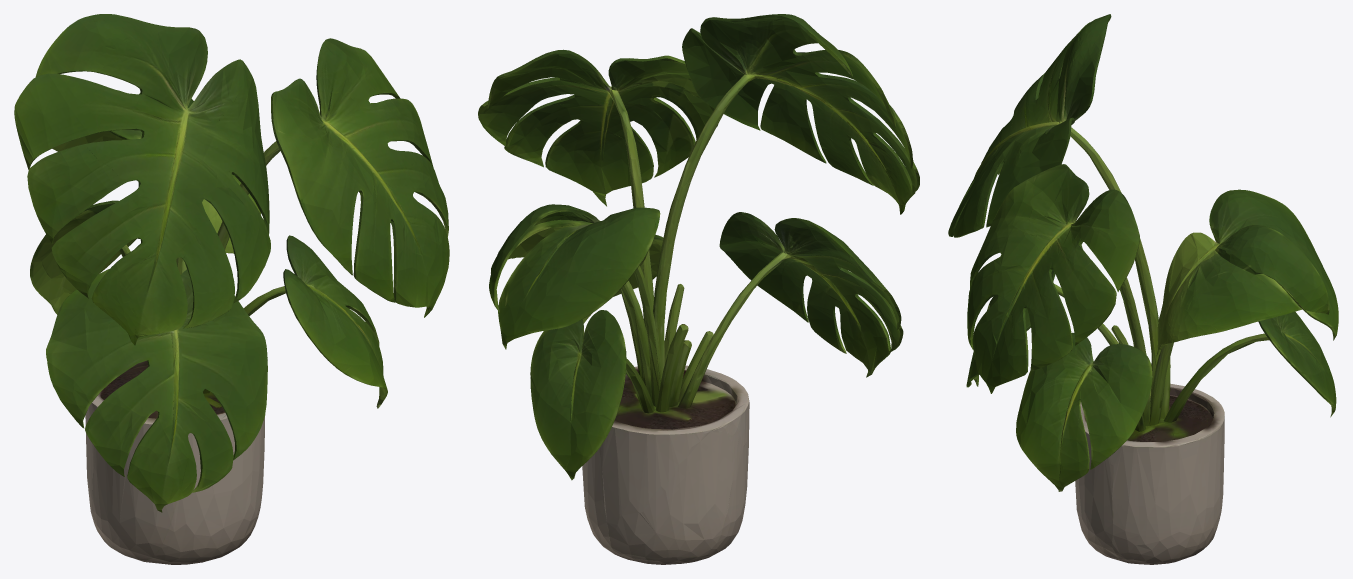
Rendered from plant.glb.
3 renders of one model, left to right at view 1: azimuth 30°, elevation 25°; view 2: azimuth 150°, elevation 25°; view 3: azimuth 270°, elevation 25°, orthographic. The views are drawn at different scales.
Visible parts, largest first — view 1: f8e78fc847dc623c7ec2e1bc9a283ef5.obj; view 2: f8e78fc847dc623c7ec2e1bc9a283ef5.obj; view 3: f8e78fc847dc623c7ec2e1bc9a283ef5.obj.
Part boxes in pixels (left/top/right/bottom): f8e78fc847dc623c7ec2e1bc9a283ef5.obj: left=14, top=14, right=449, bottom=564; f8e78fc847dc623c7ec2e1bc9a283ef5.obj: left=478, top=14, right=919, bottom=564; f8e78fc847dc623c7ec2e1bc9a283ef5.obj: left=948, top=14, right=1338, bottom=564.
Bounding box in the file's own units: 0.8406 × 1.07 × 0.7885.
1 material, 1 textured.
